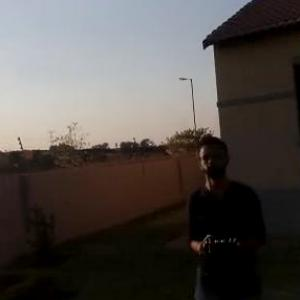follow: (172, 133, 265, 299)
